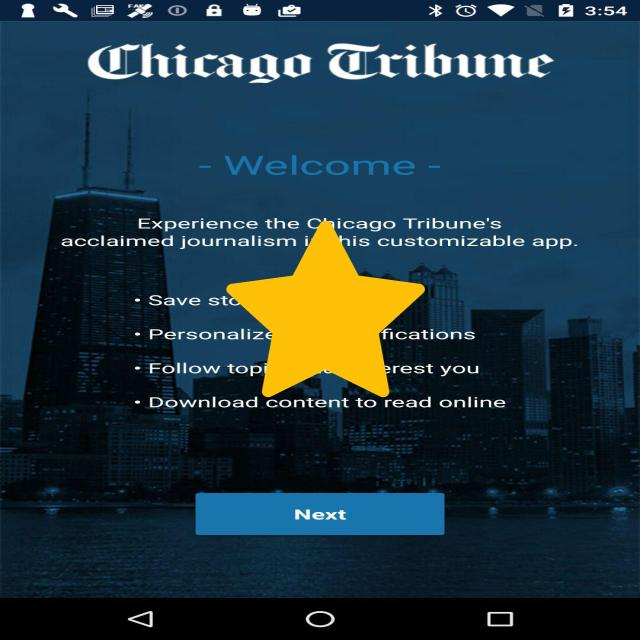forced continuity: (226, 221, 425, 397)
